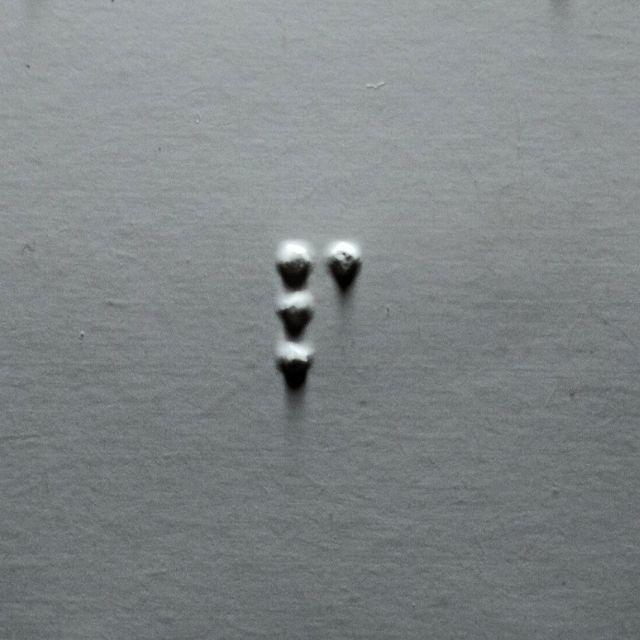p: (277, 239, 362, 380)
